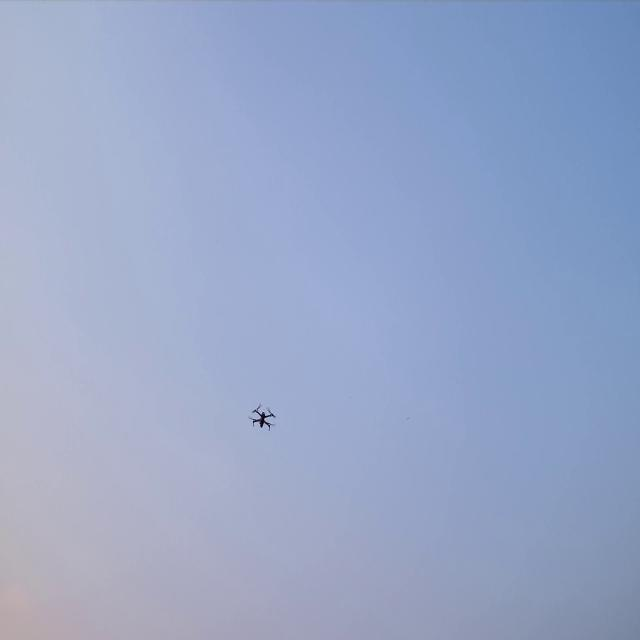UAV: (247, 402, 277, 433)
